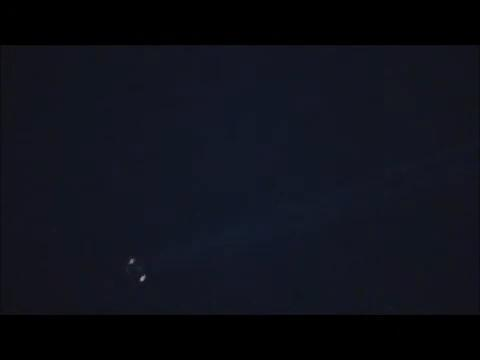Plane: (103, 247, 164, 289)
